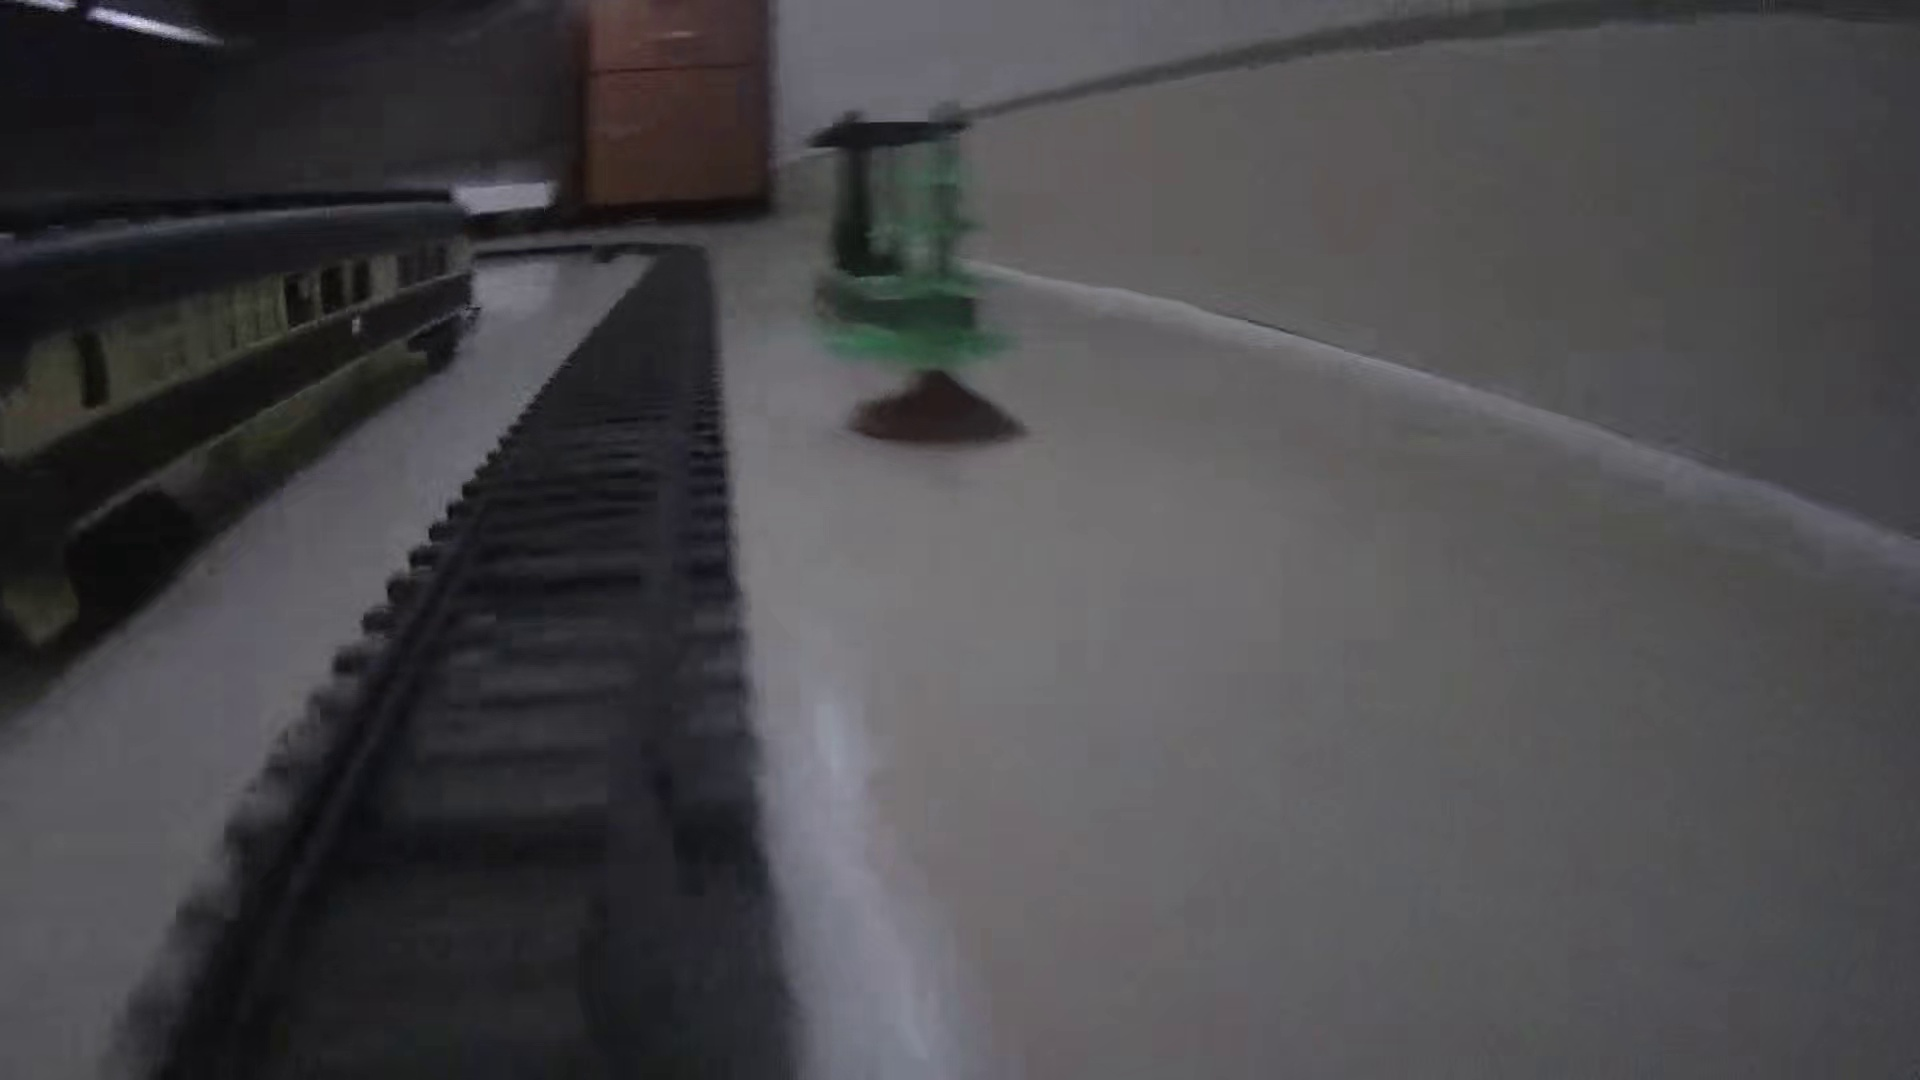tree: (843, 97, 1029, 450)
